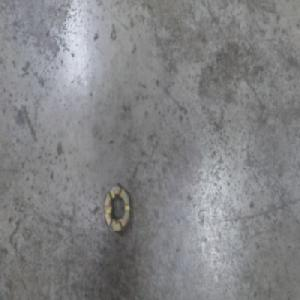Nut: (103, 181, 131, 235)
